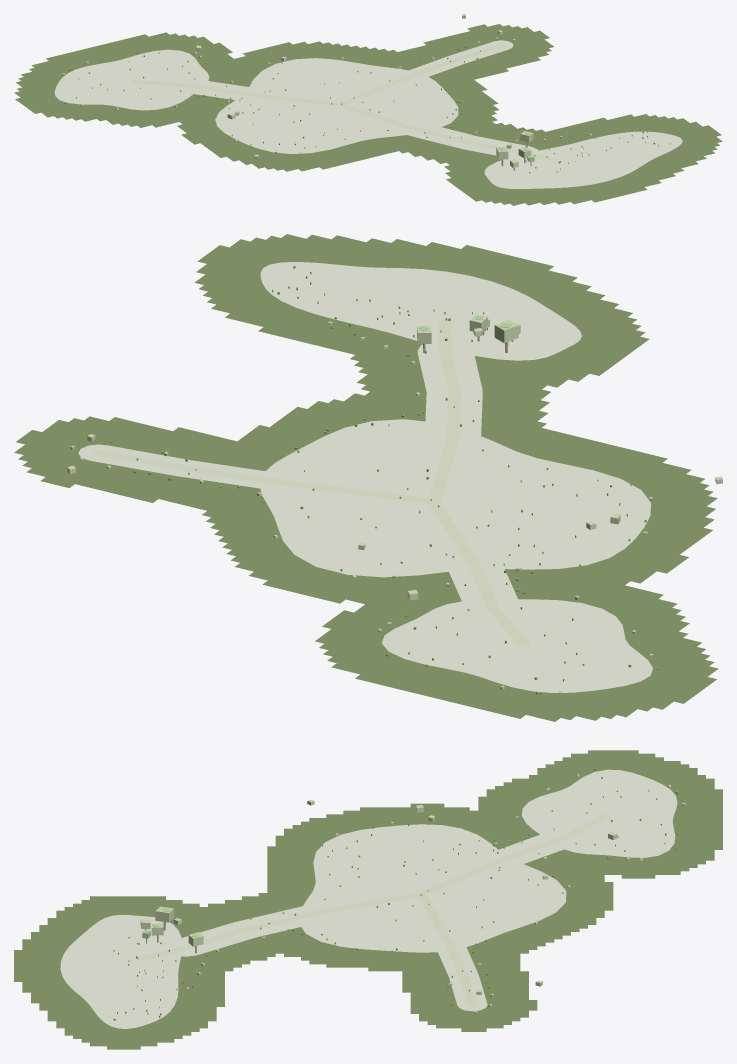
The model's file is pradera_oeste.glb.
3 views of the same model, one above another, from view 1: azimuth 30°, elevation 25°; view 2: azimuth 150°, elevation 25°; view 3: azimuth 270°, elevation 25° (orthographic). The views are drawn at different scales.
Parts seen in each view (by area): view 1: AutoForest_PraderaOeste, ValleMeadow, LaderaMeadow, BosquecitoMeadow, LaderaLinkMeadow, EntradaMeadow, LaderaPath, BosquecitoLinkMeadow, BosquecitoPath, EntradaPath; view 2: AutoForest_PraderaOeste, ValleMeadow, BosquecitoMeadow, LaderaMeadow, LaderaLinkMeadow, EntradaMeadow, LaderaPath, EntradaPath, BosquecitoPath, BosquecitoLinkMeadow; view 3: AutoForest_PraderaOeste, ValleMeadow, LaderaMeadow, BosquecitoMeadow, LaderaLinkMeadow, EntradaMeadow, LaderaPath, BosquecitoLinkMeadow, EntradaPath, BosquecitoPath.
Boxes of the visible parts, x1=… form: AutoForest_PraderaOeste: x1=14, y1=24, x2=722, y2=205; ValleMeadow: x1=215, y1=58, x2=458, y2=154; LaderaMeadow: x1=484, y1=131, x2=682, y2=188; BosquecitoMeadow: x1=54, y1=49, x2=209, y2=110; LaderaLinkMeadow: x1=395, y1=127, x2=539, y2=159; EntradaMeadow: x1=404, y1=40, x2=513, y2=78; LaderaPath: x1=339, y1=104, x2=560, y2=162; BosquecitoLinkMeadow: x1=172, y1=79, x2=263, y2=100; BosquecitoPath: x1=132, y1=80, x2=339, y2=106; EntradaPath: x1=337, y1=44, x2=504, y2=106; AutoForest_PraderaOeste: x1=14, y1=234, x2=718, y2=721; ValleMeadow: x1=259, y1=419, x2=650, y2=577; BosquecitoMeadow: x1=382, y1=599, x2=652, y2=692; LaderaMeadow: x1=260, y1=262, x2=581, y2=360; LaderaLinkMeadow: x1=417, y1=340, x2=482, y2=451; EntradaMeadow: x1=78, y1=444, x2=284, y2=489; LaderaPath: x1=428, y1=320, x2=460, y2=501; EntradaPath: x1=92, y1=450, x2=439, y2=504; BosquecitoPath: x1=428, y1=502, x2=530, y2=647; BosquecitoLinkMeadow: x1=448, y1=556, x2=521, y2=618; AutoForest_PraderaOeste: x1=14, y1=750, x2=722, y2=1049; ValleMeadow: x1=299, y1=824, x2=566, y2=952; LaderaMeadow: x1=60, y1=915, x2=182, y2=1028; BosquecitoMeadow: x1=521, y1=769, x2=677, y2=857; LaderaLinkMeadow: x1=167, y1=903, x2=339, y2=956; EntradaMeadow: x1=437, y1=941, x2=487, y2=1011; LaderaPath: x1=138, y1=892, x2=420, y2=960; BosquecitoLinkMeadow: x1=485, y1=829, x2=585, y2=866; EntradaPath: x1=417, y1=892, x2=476, y2=1006; BosquecitoPath: x1=420, y1=814, x2=611, y2=894.
Size of what is drawn, in the model's own units: 168 by 5.76 by 168.
